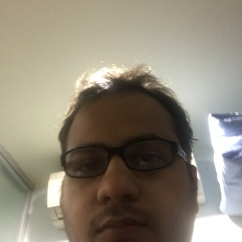glasses: (61, 145, 179, 173)
